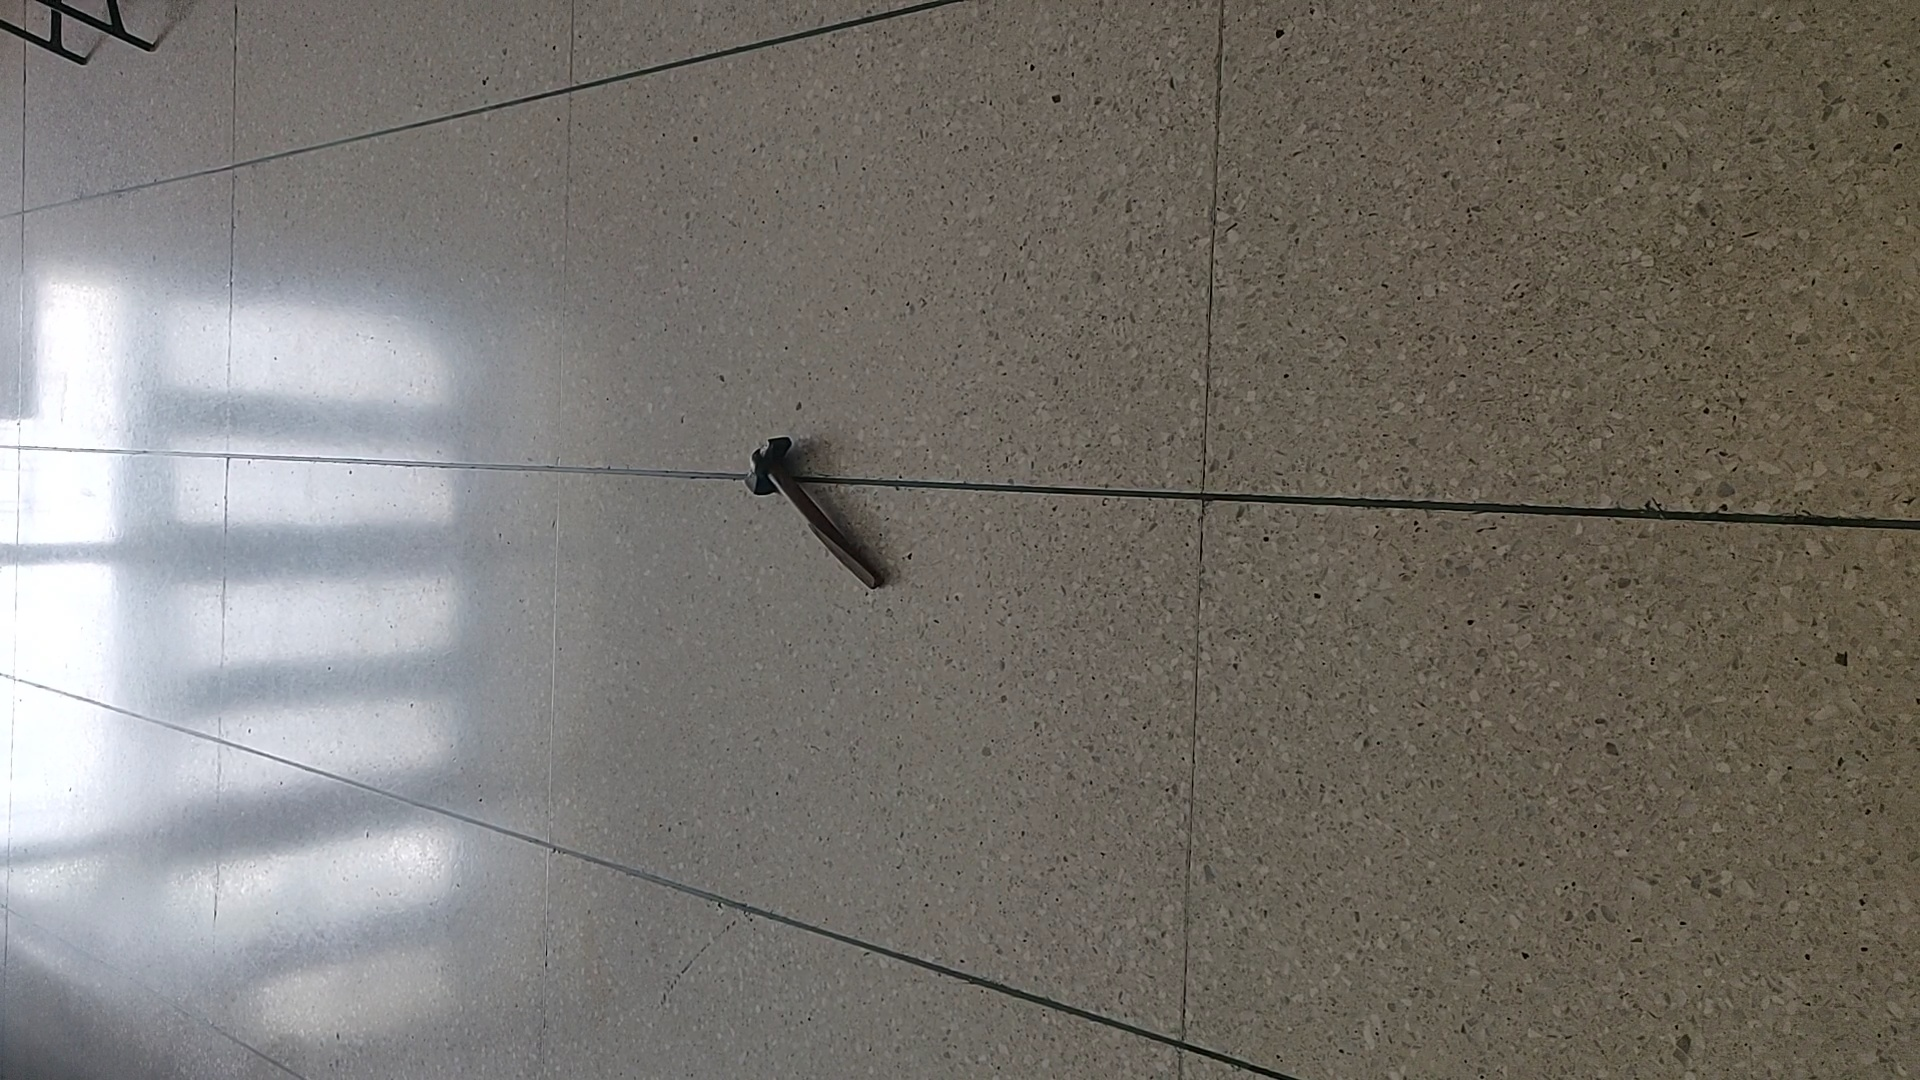hammer: (741, 434, 886, 593)
